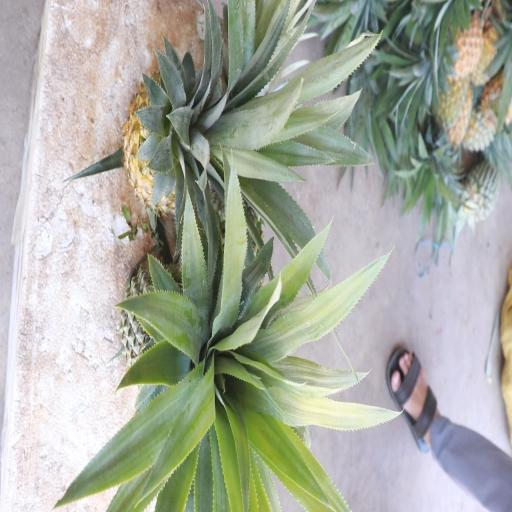Pineapple - v8 v1: (118, 72, 252, 219)
